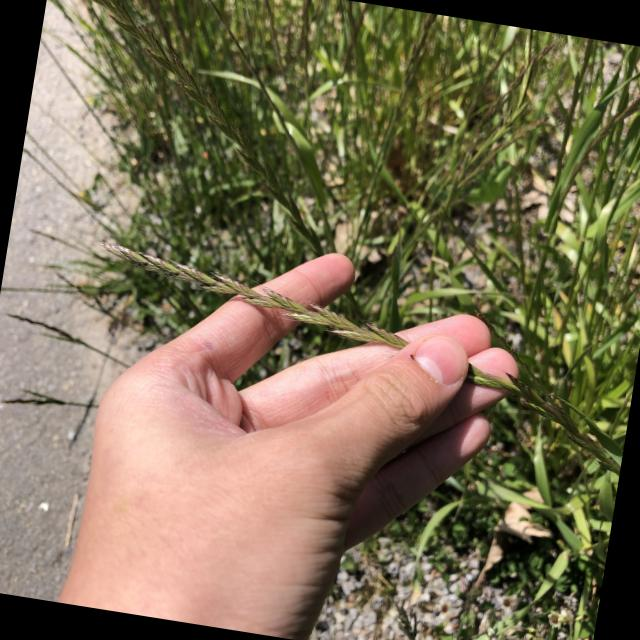Lolium: (70, 233, 640, 478), (27, 0, 362, 258), (457, 29, 558, 185), (565, 51, 640, 202), (458, 102, 550, 198), (464, 36, 514, 134), (400, 11, 440, 98)
